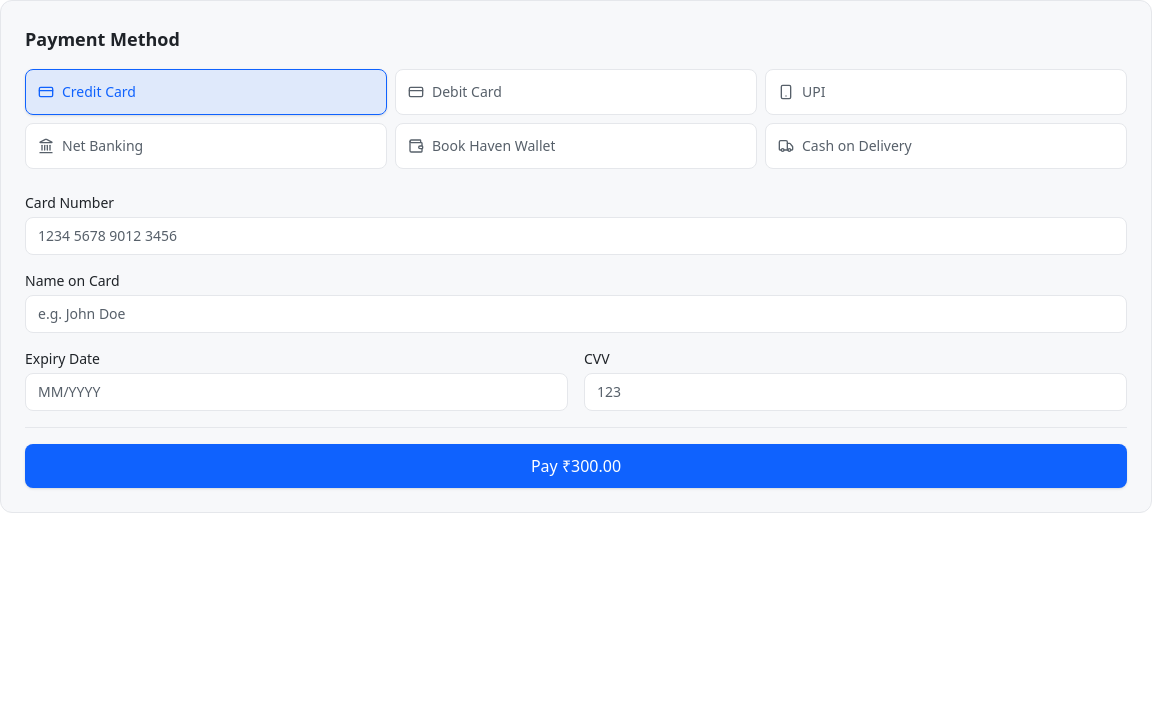
PaymentTabsTest › invalidUpiBlocksSubmit: blocks submit on malformed UPI ID
Click the tab "UPI" at (786, 92), box [765, 69, 1127, 115]
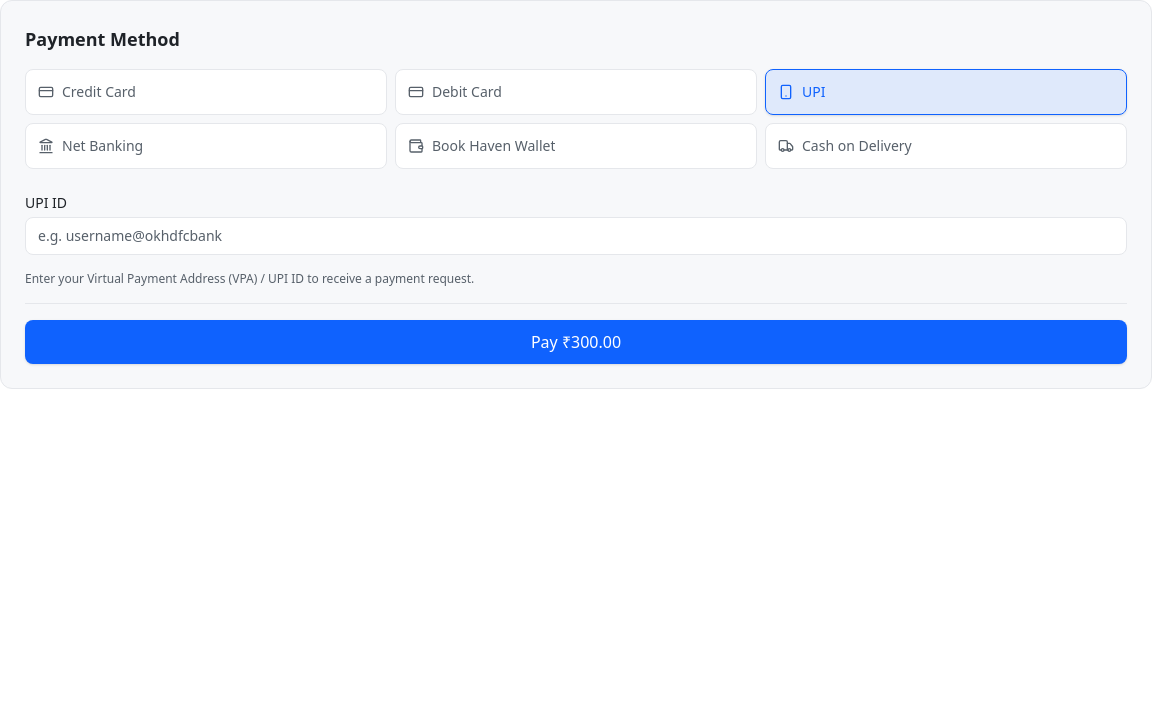
Type "bad-upi-format" into the field labelled "UPI ID" at (576, 236), box [25, 217, 1127, 255]
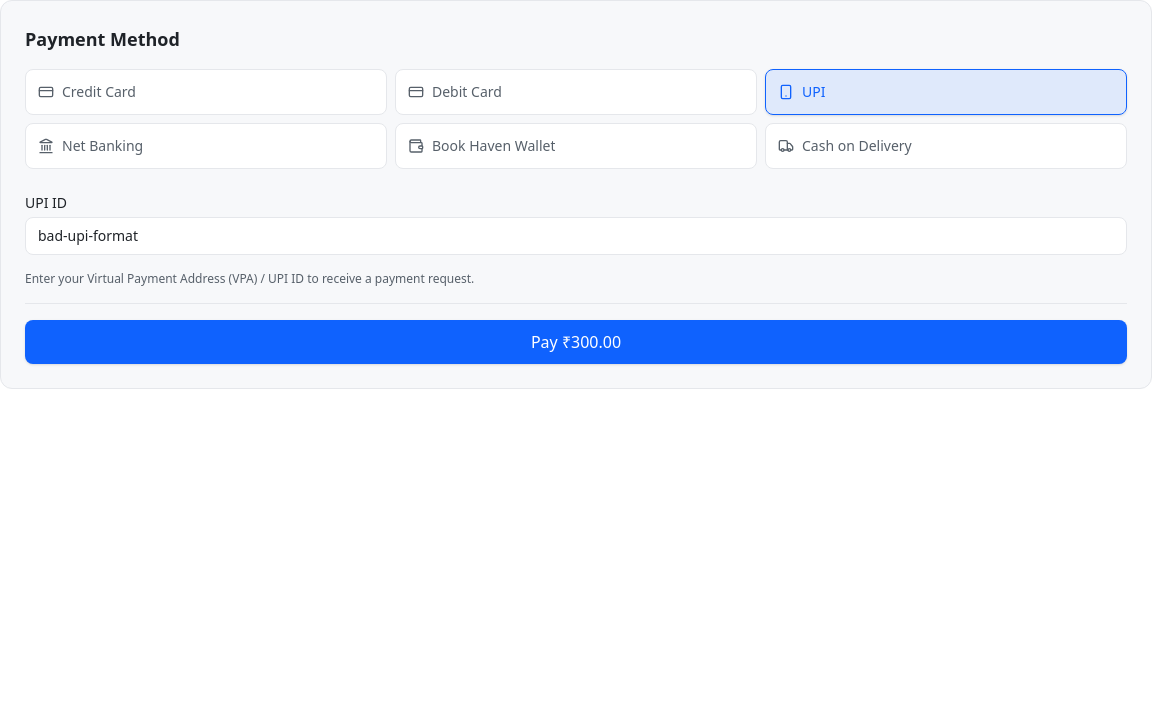
Click the button "Pay ₹300.00" at (576, 342), box [25, 320, 1127, 364]
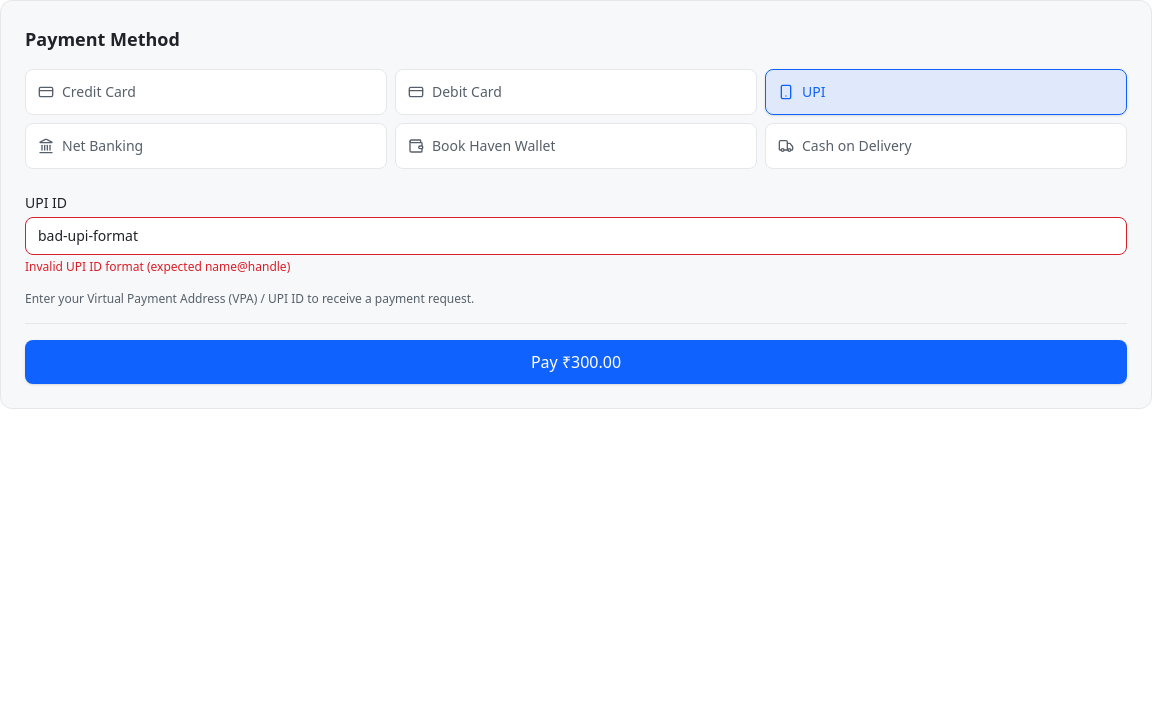
Now the text "Invalid UPI ID format (expected name@handle)" is shown, box [25, 258, 290, 275]
